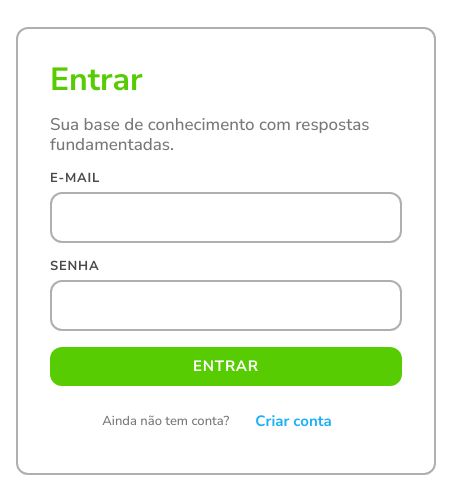
Test: LoginView › exige senha de 8+ caracteres no modo registro
This screenshot has width=453, height=503.
Click the button "Criar conta" at (293, 422), box [237,402,350,441]
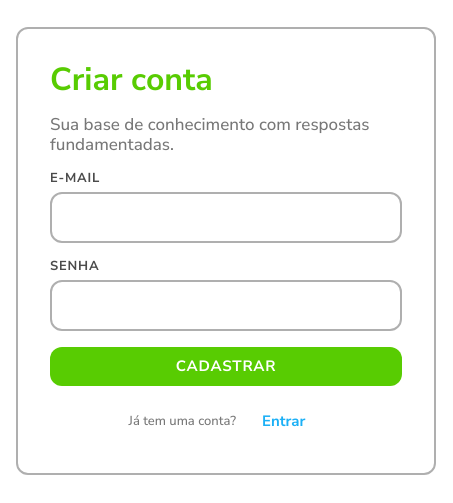
Type "user@example.com" into the field with id "email" at (226, 217), box [50,192,402,243]
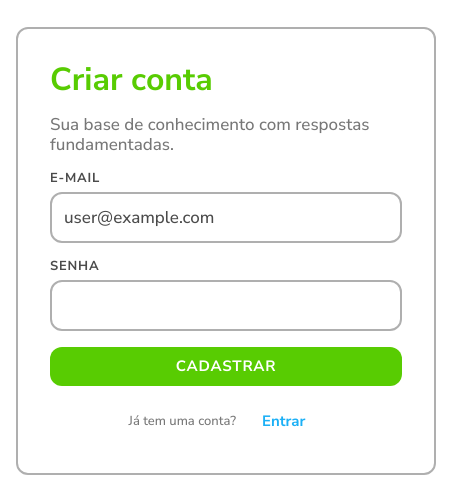
Type "short" into the password field labelled "Senha" at (226, 306), box [50,280,402,331]
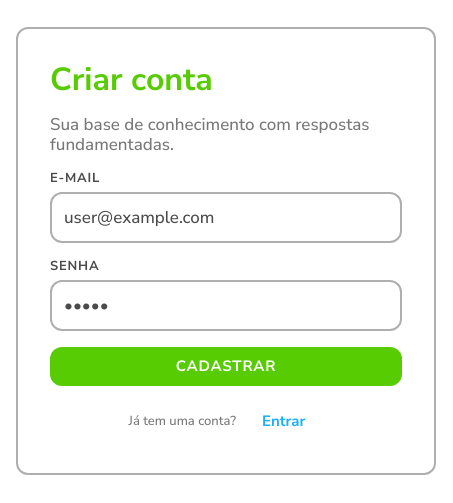
Submit the form, box [50,171,402,386]
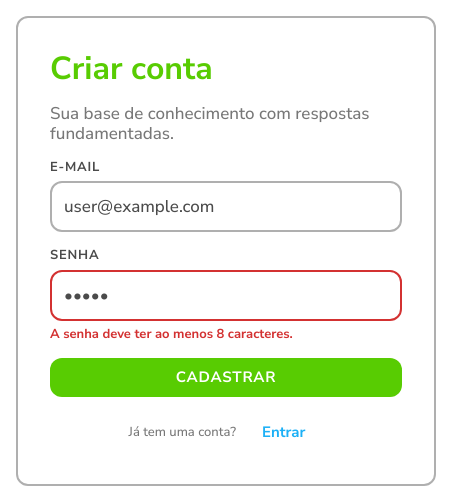
Check: the text "A senha deve ter ao menos 8 caracteres." is shown, box [50,325,293,343]
